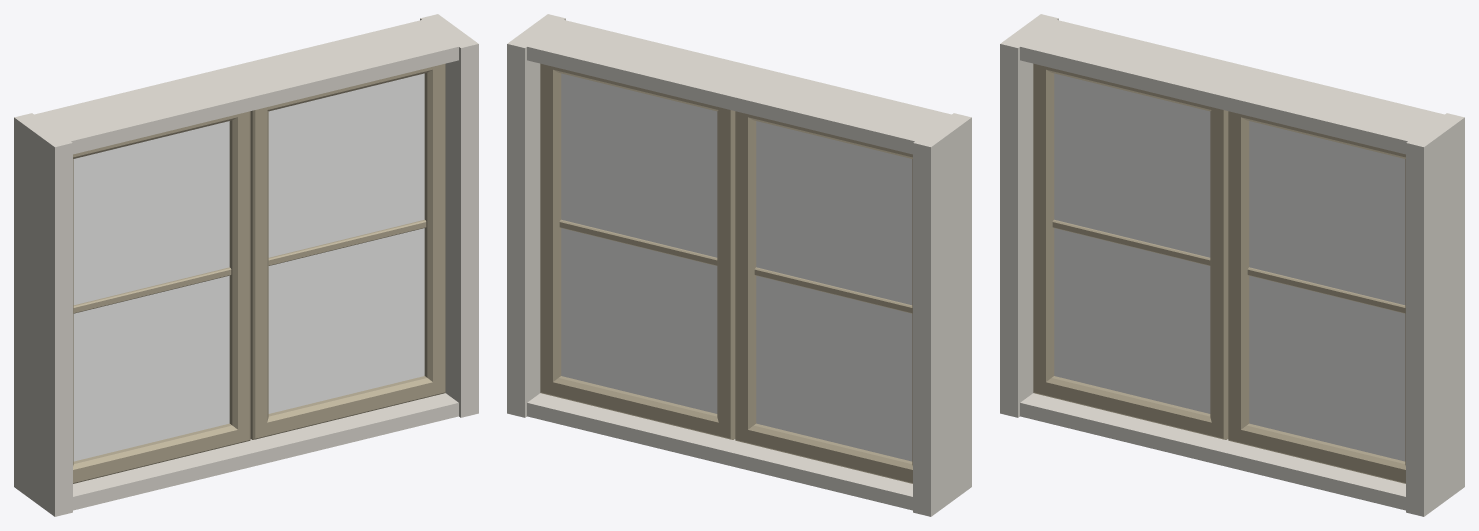
Rendered from 窓木枠.fbx.
The picture shows the model from 3 angles, left to right: view 1: azimuth 30°, elevation 25°; view 2: azimuth 150°, elevation 25°; view 3: azimuth 330°, elevation 25°; orthographic projection.
Visible parts, largest first — view 1: Body; view 2: Body; view 3: Body.
Part boxes in pixels (box(x1,y1,x2,y2)): Body: box(14, 14, 478, 516); Body: box(507, 14, 971, 516); Body: box(1000, 14, 1464, 516).
Size of the model in its own units: 120 by 100 by 20.
